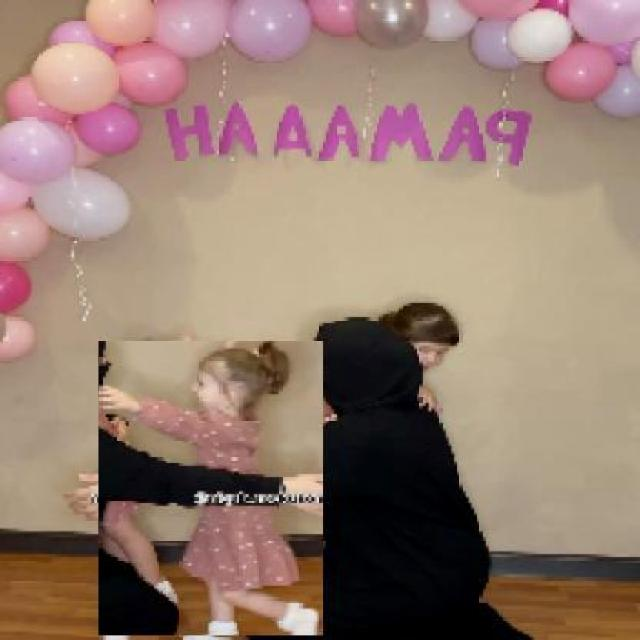child: (97, 340, 323, 637)
